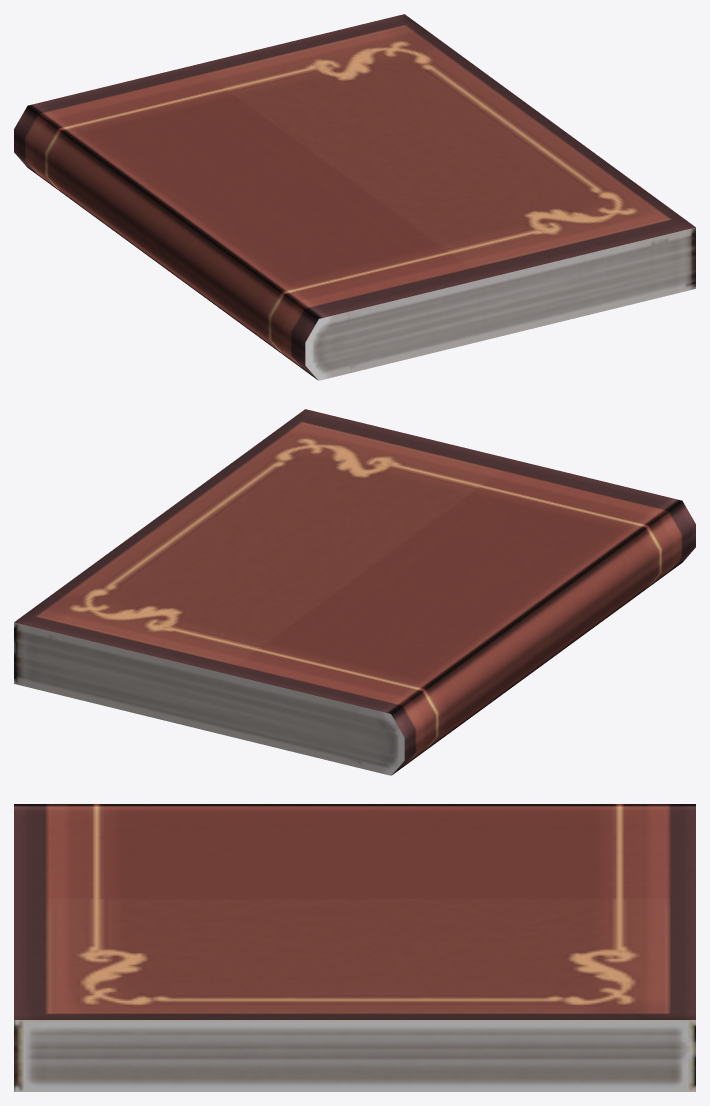
The model's file is Book01C.FBX.
3 renders of one model, top to bottom at view 1: azimuth 30°, elevation 25°; view 2: azimuth 150°, elevation 25°; view 3: azimuth 270°, elevation 25°, orthographic. The views are drawn at different scales.
Visible parts, largest first — view 1: Book01C; view 2: Book01C; view 3: Book01C.
Boxes of the visible parts, x1,y1,x2,y2 form: Book01C: [14, 14, 695, 380]; Book01C: [14, 409, 695, 775]; Book01C: [14, 804, 695, 1091].
Size of the model in its own units: 29.76 by 38.44 by 4.51.
